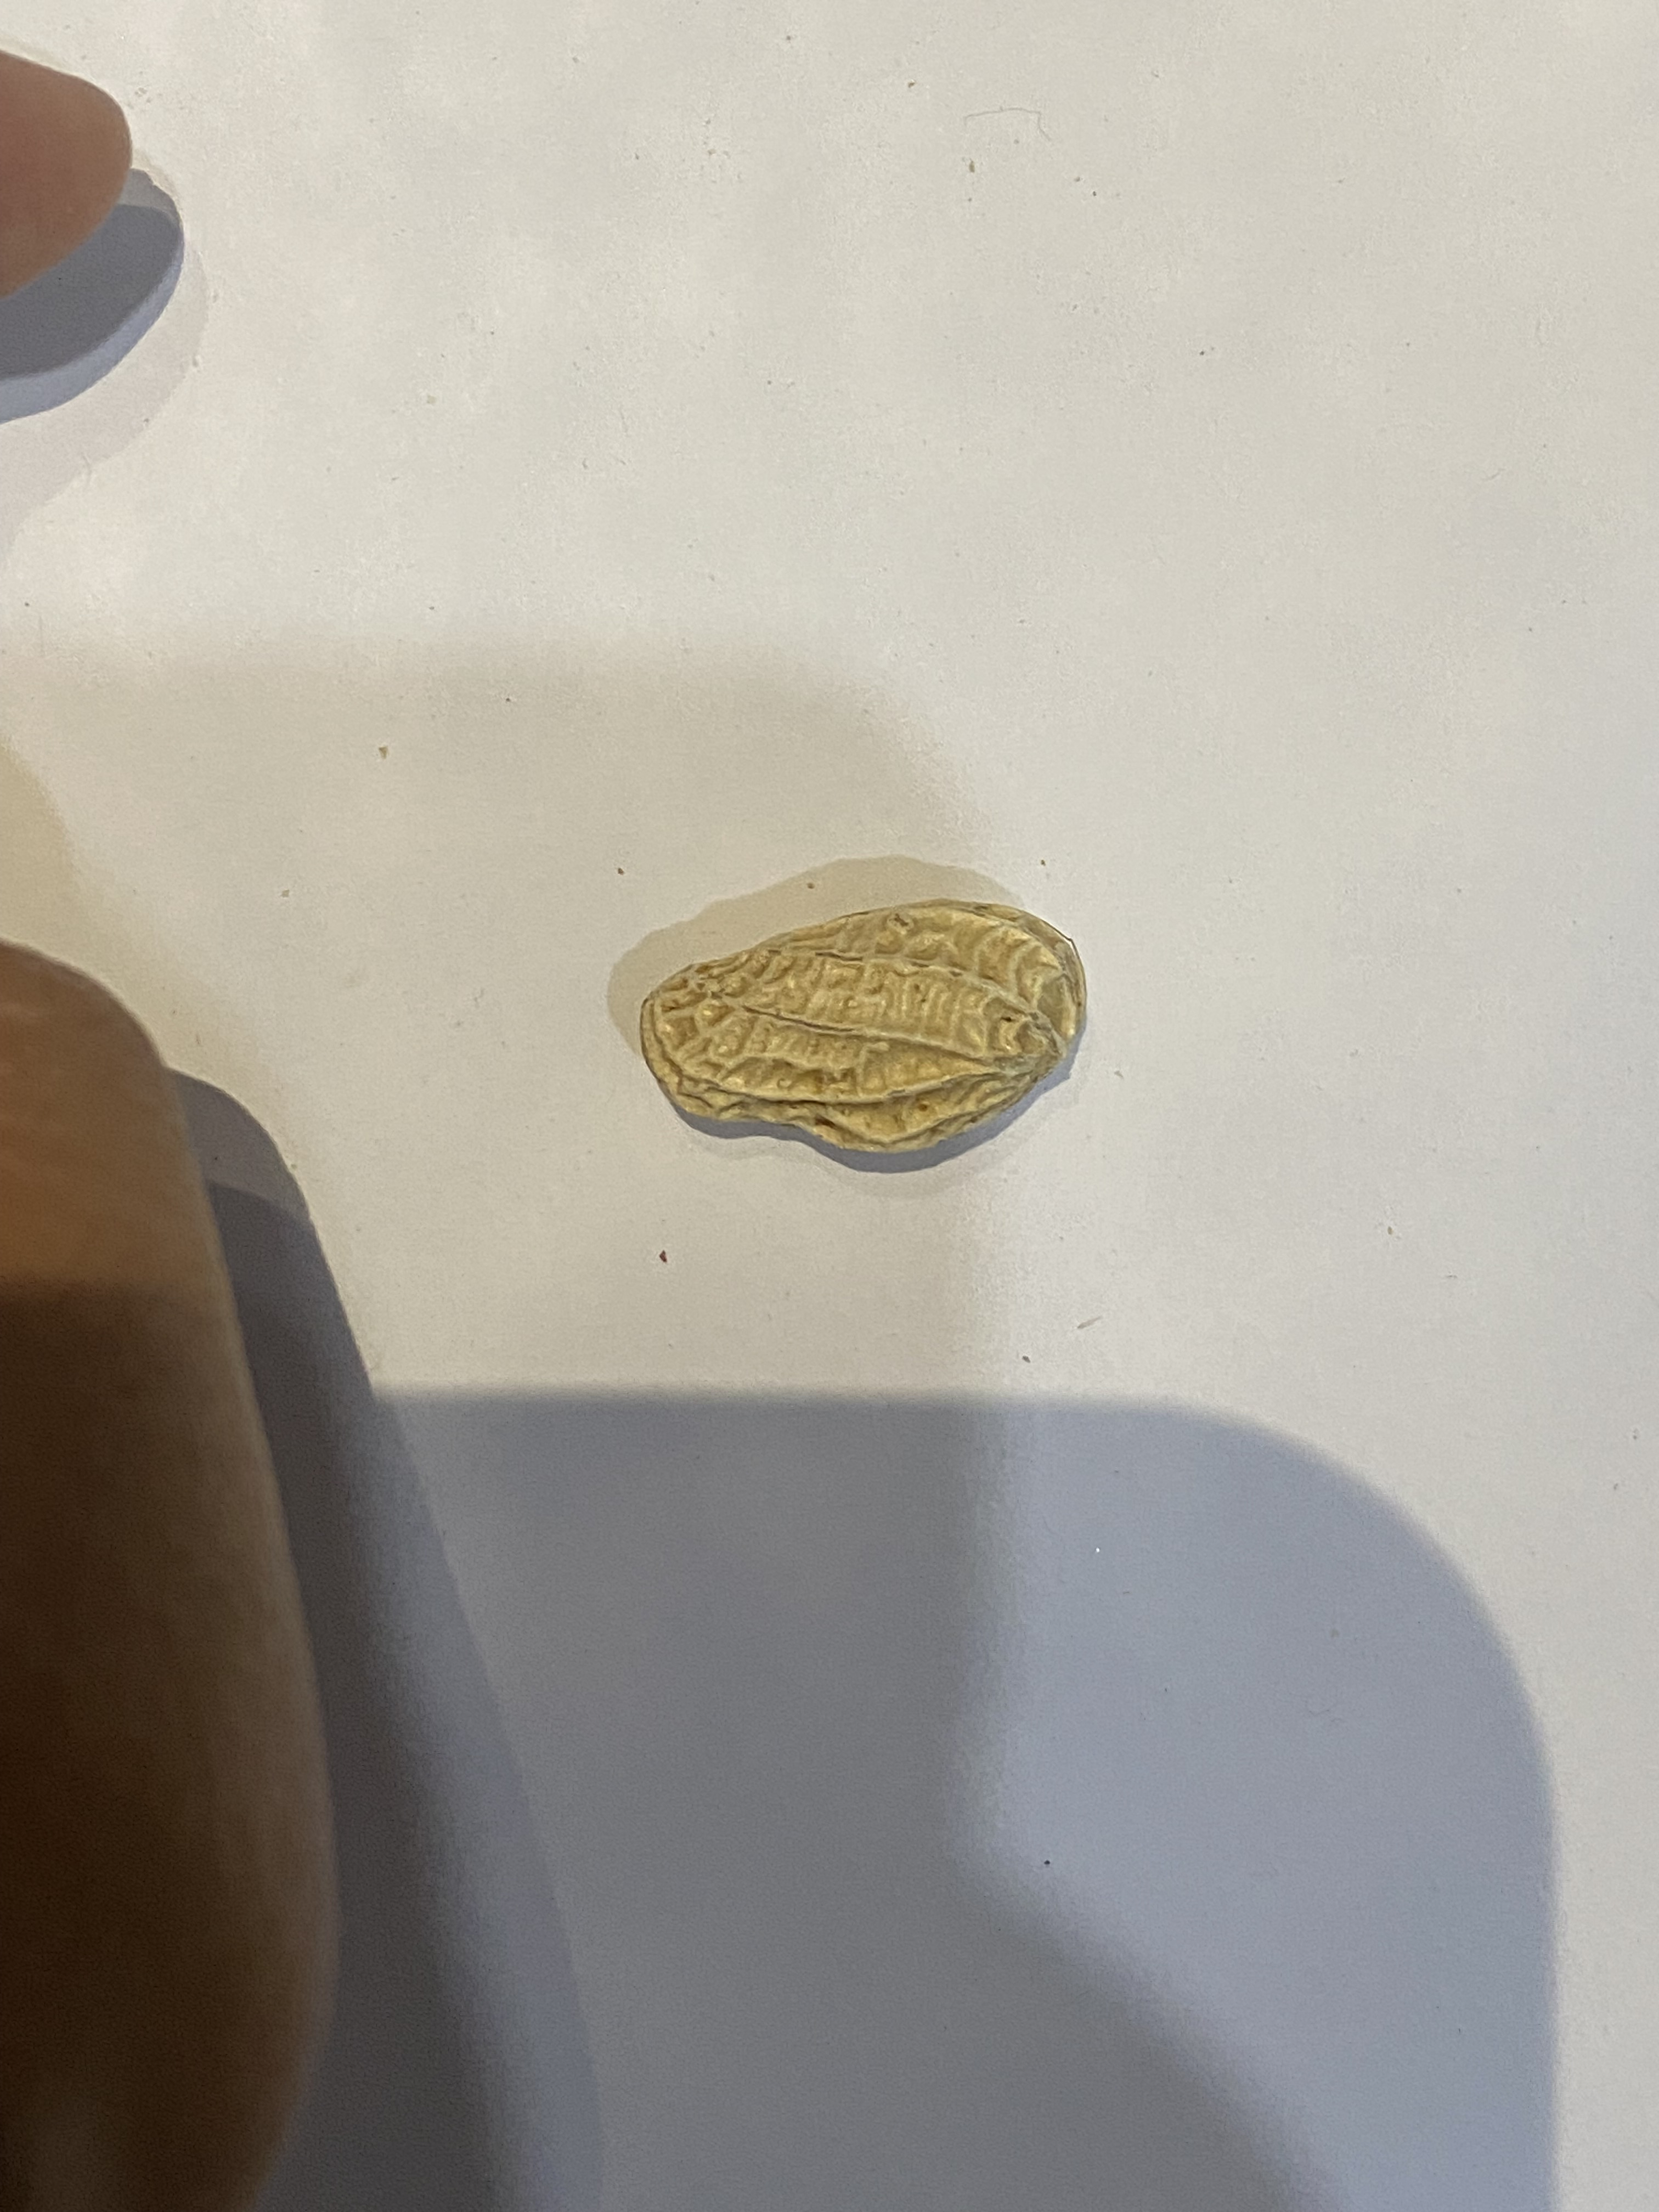kacang1: (608, 890, 1112, 1167)
